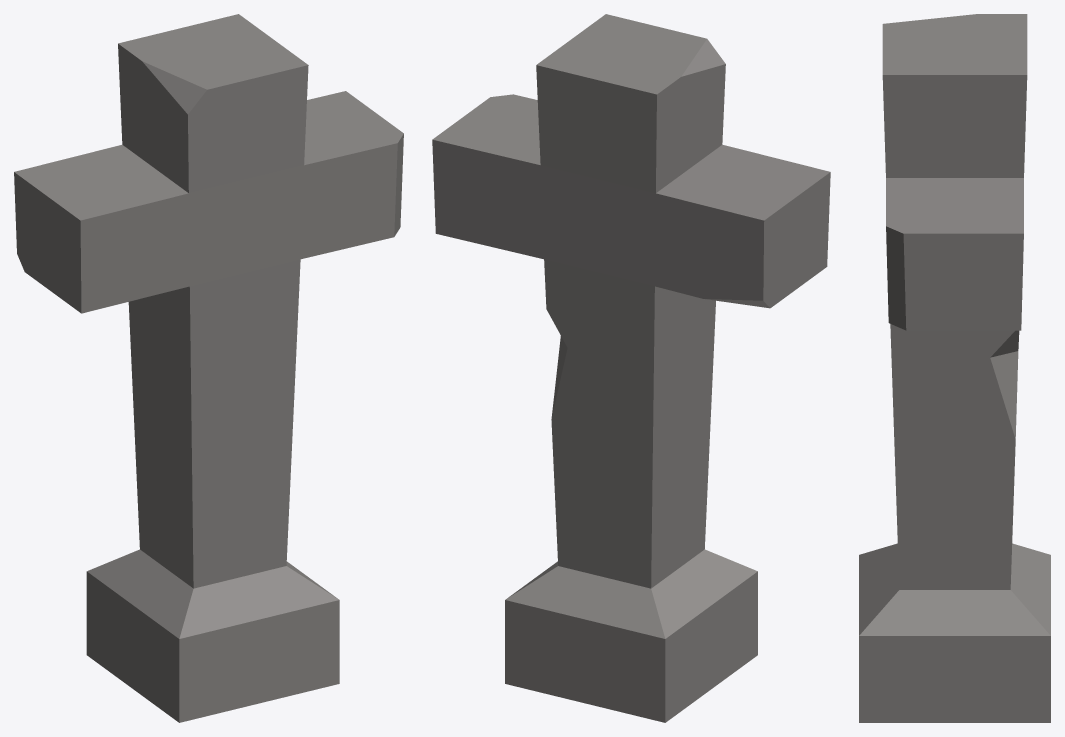
The model's file is SM_Props_Graveyard_02.fbx.
3 views of the same model, side by side, from view 1: azimuth 30°, elevation 25°; view 2: azimuth 150°, elevation 25°; view 3: azimuth 270°, elevation 25° (orthographic). The views are drawn at different scales.
Visible parts, largest first — view 1: SM_Props_Graveyard_02; view 2: SM_Props_Graveyard_02; view 3: SM_Props_Graveyard_02.
Part boxes in pixels (bbox=[...]): SM_Props_Graveyard_02: bbox=[14, 14, 403, 722]; SM_Props_Graveyard_02: bbox=[432, 14, 830, 722]; SM_Props_Graveyard_02: bbox=[859, 14, 1050, 722].
Bounding box in the file's own units: 124 × 220 × 60.
